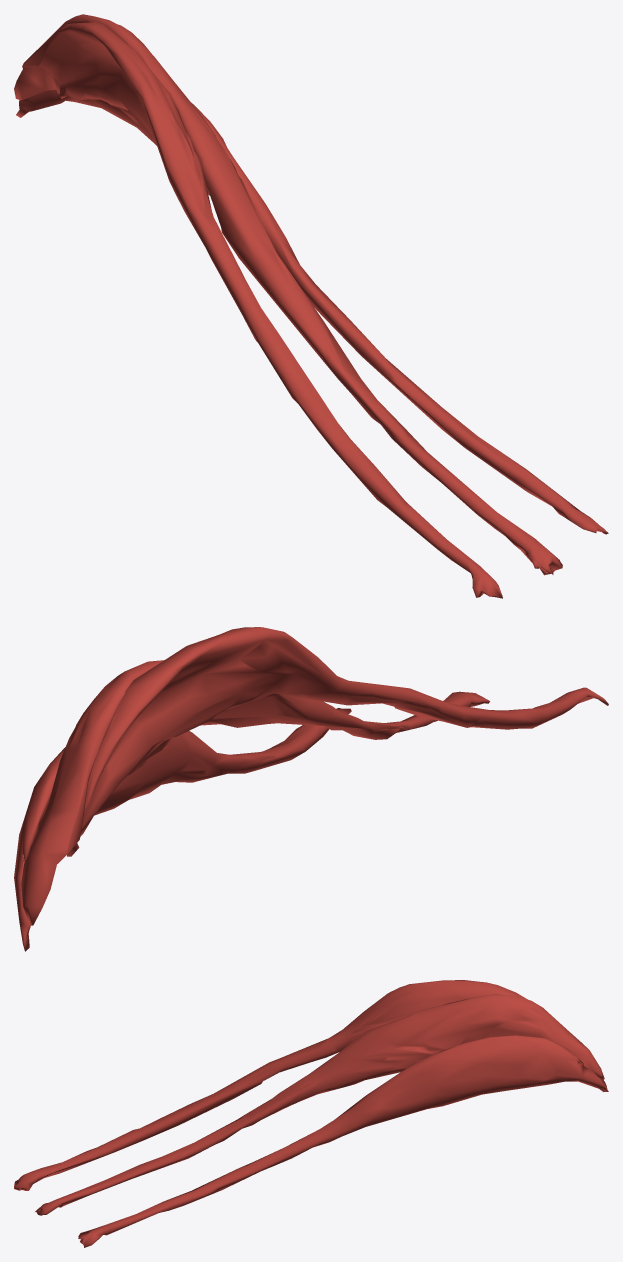
File: musculos-extensor-digitorum-brevis-l.glb
3 renders of one model, top to bottom at view 1: azimuth 30°, elevation 25°; view 2: azimuth 150°, elevation 25°; view 3: azimuth 270°, elevation 25°, orthographic. The views are drawn at different scales.
Parts seen in each view (by area): view 1: Extensor digitorum brevis.l; view 2: Extensor digitorum brevis.l; view 3: Extensor digitorum brevis.l.
Boxes of the visible parts, bbox=[...] form: Extensor digitorum brevis.l: bbox=[14, 14, 608, 598]; Extensor digitorum brevis.l: bbox=[14, 627, 608, 951]; Extensor digitorum brevis.l: bbox=[14, 980, 608, 1247].
Bounding box in the file's own units: 0.0428 × 0.0587 × 0.1541.
